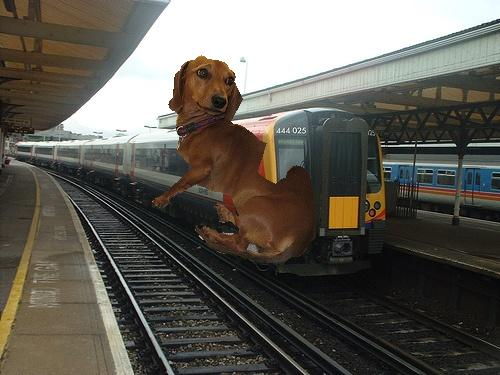tampered: (153, 56, 316, 265)
